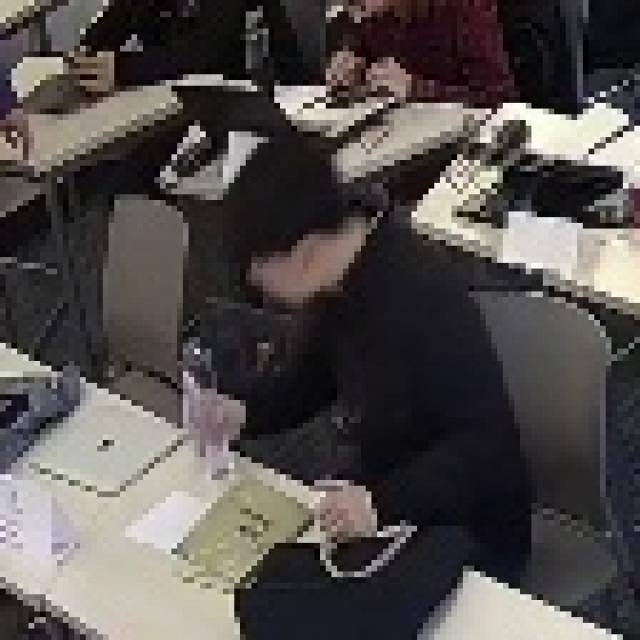drink: (169, 145, 527, 572)
